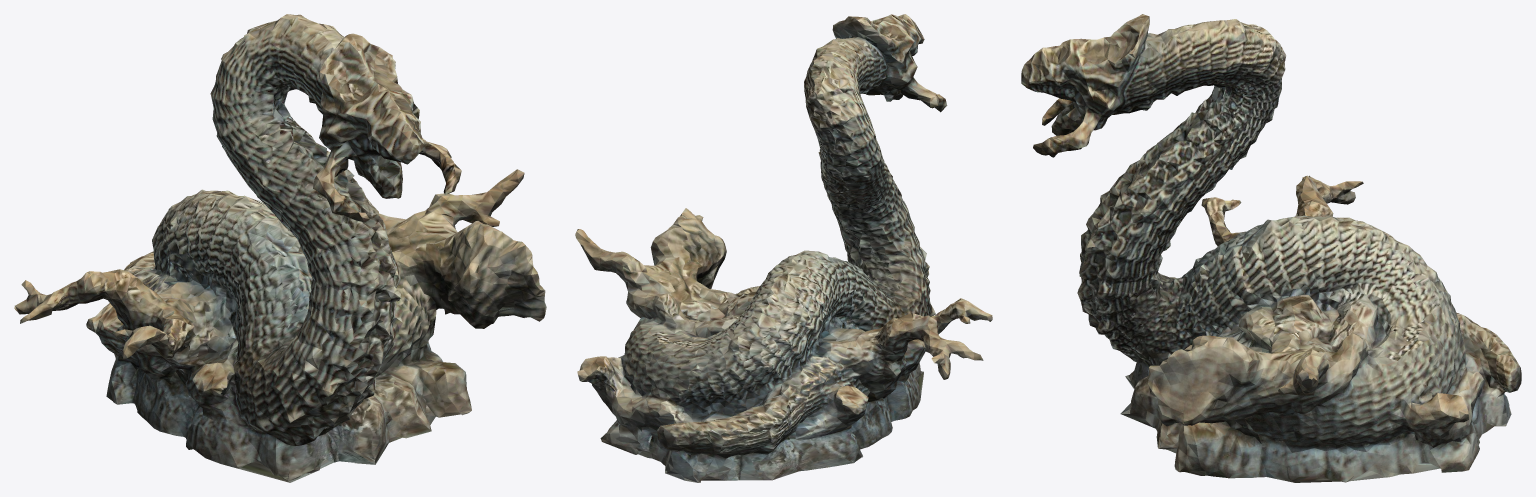
File: underbrush_wyrm.glb
3 renders of one model, left to right at view 1: azimuth 30°, elevation 25°; view 2: azimuth 150°, elevation 25°; view 3: azimuth 270°, elevation 25°, orthographic. The views are drawn at different scales.
Parts seen in each view (by area): view 1: geometry_0; view 2: geometry_0; view 3: geometry_0.
Part boxes in pixels (<box>): geometry_0: <box>14,14,546,482</box>; geometry_0: <box>575,14,992,482</box>; geometry_0: <box>1021,14,1521,482</box>.
Bounding box in the file's own units: 0.039 × 0.0315 × 0.0364.
Materials: 1 (1 with a texture image).
